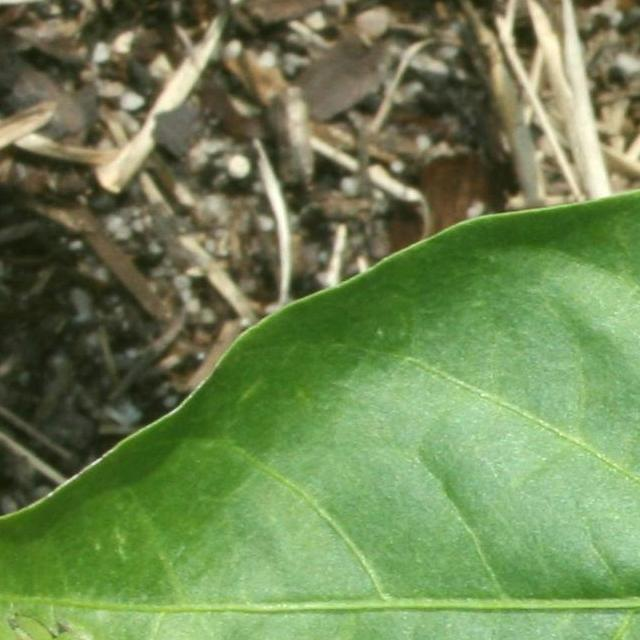Tomato leaf: (0, 206, 640, 640), (228, 0, 640, 163)
